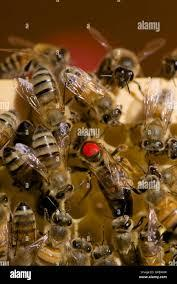Queen-Bee: (68, 124, 139, 216)
worker-bee: (27, 113, 70, 201), (24, 64, 74, 139), (32, 203, 81, 269), (63, 63, 121, 118), (141, 166, 177, 242), (103, 207, 144, 260)
